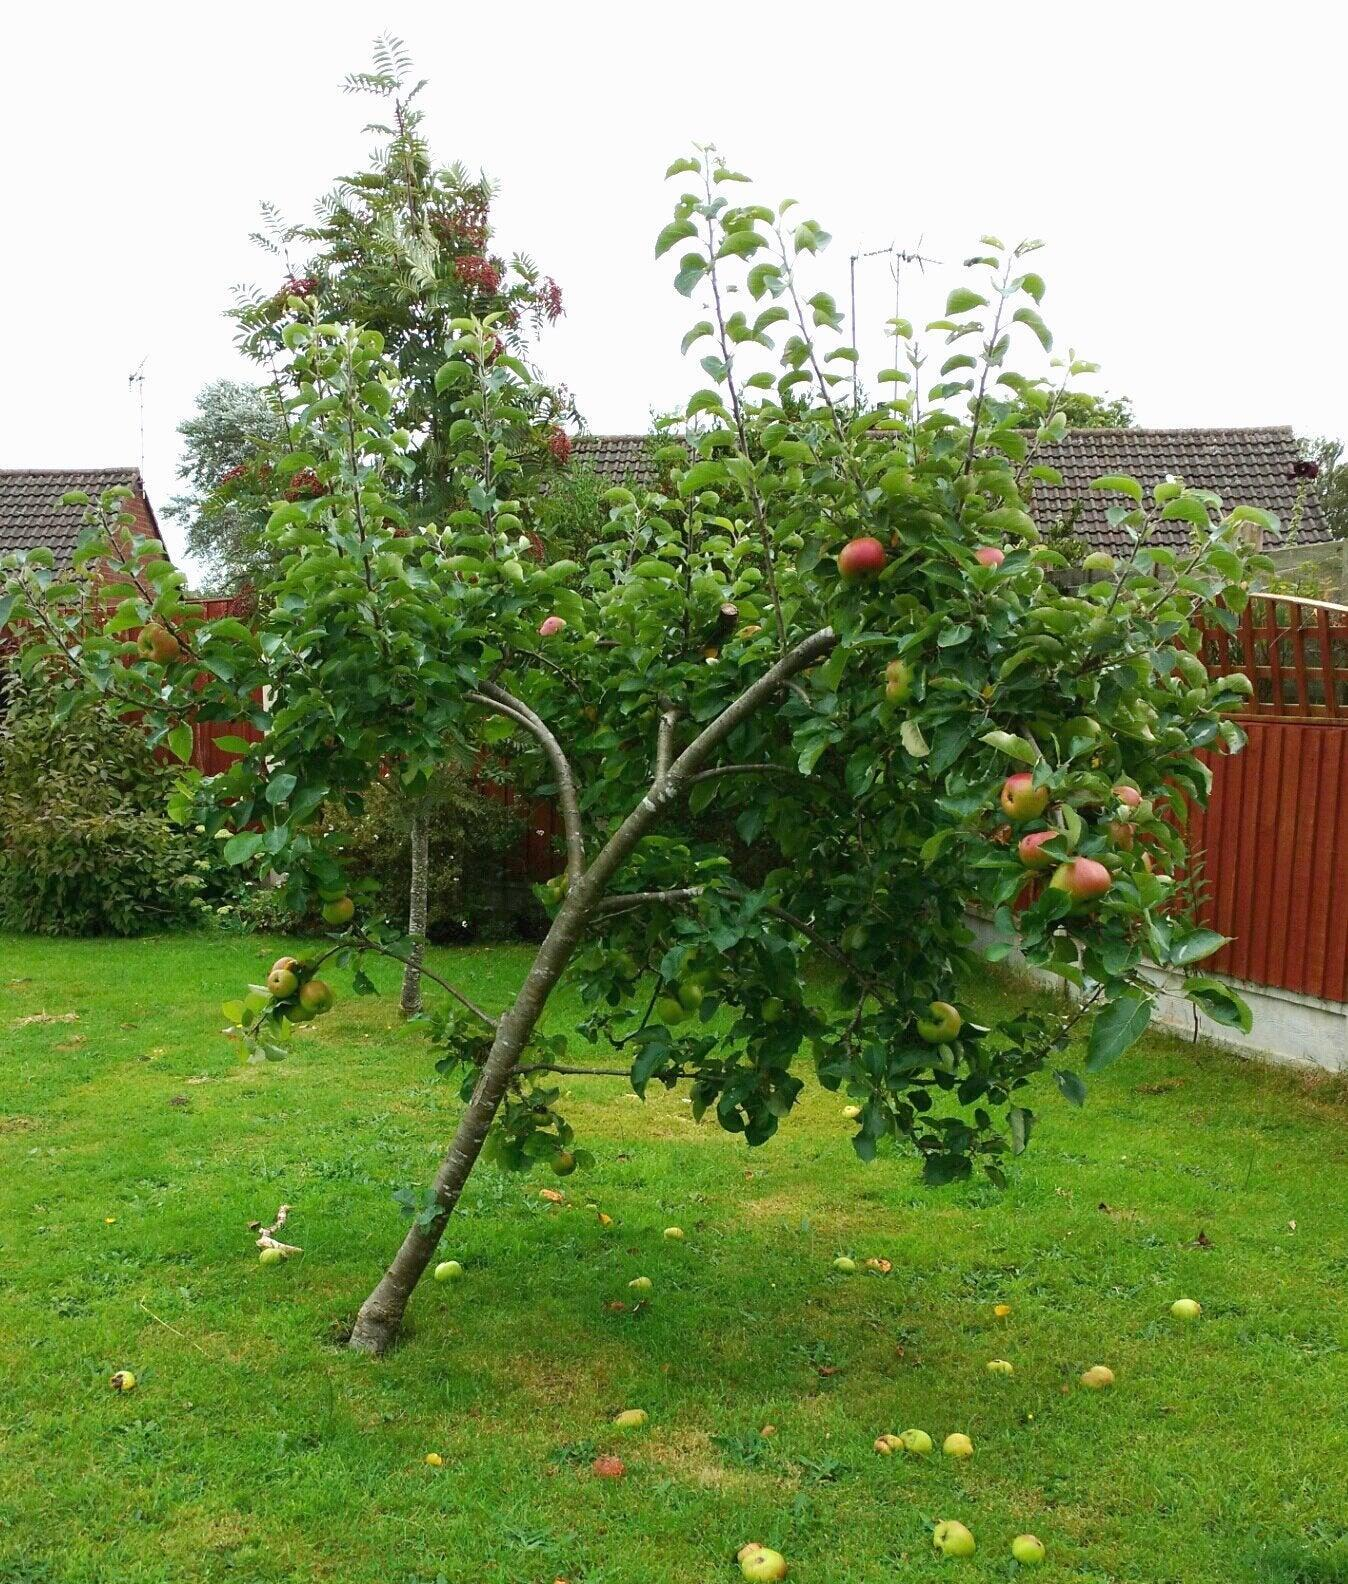apple: (996, 770, 1047, 823), (1054, 855, 1111, 902), (834, 535, 887, 577)
